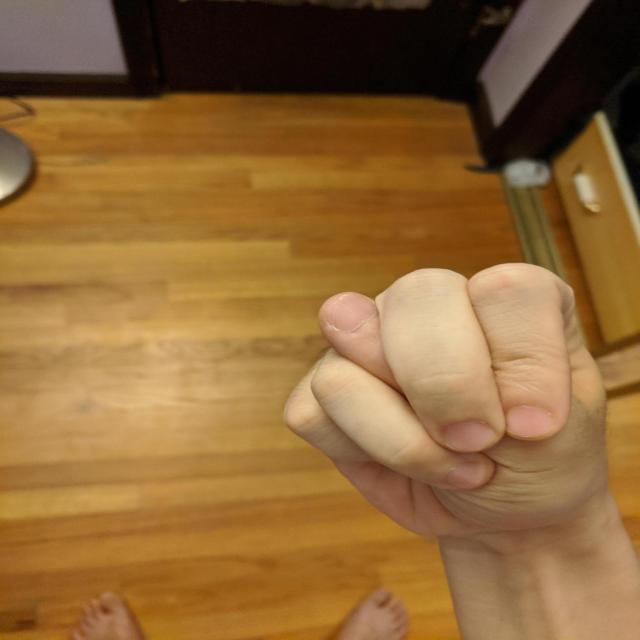N: (275, 256, 616, 548)
